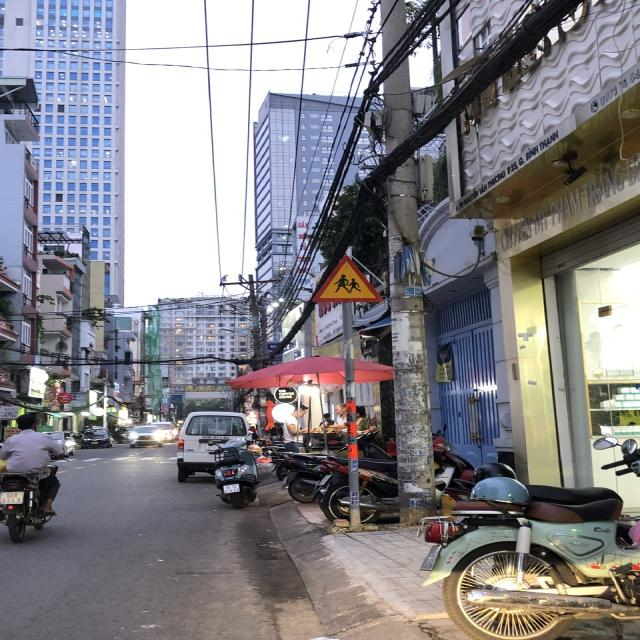Bien bao tre em: (307, 247, 385, 307)
